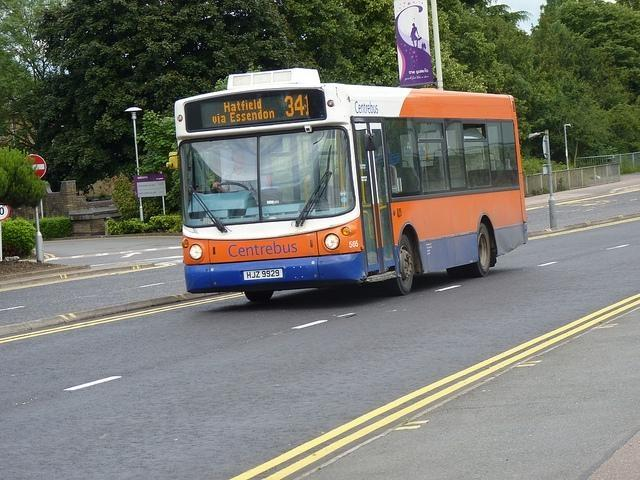bus: (173, 68, 528, 306)
